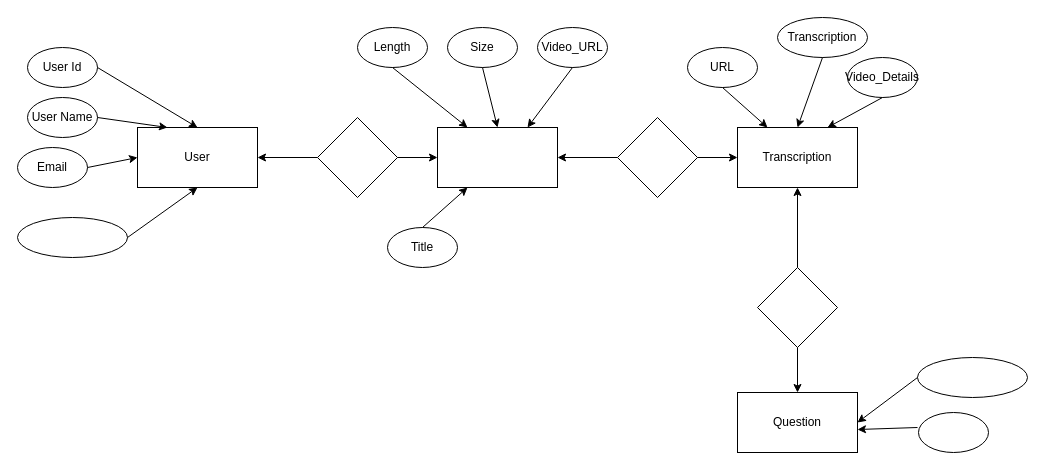
This 1045x470 diagram has some shape labels left out. Each missing label, with the centre of its shape:
Creates: the point at 797,307
Type: the point at 953,432
Upload: the point at 357,157
User's_Answer: the point at 972,377
Uses: the point at 657,157
Video: the point at 497,157
Videos_Uploaded: the point at 72,237
